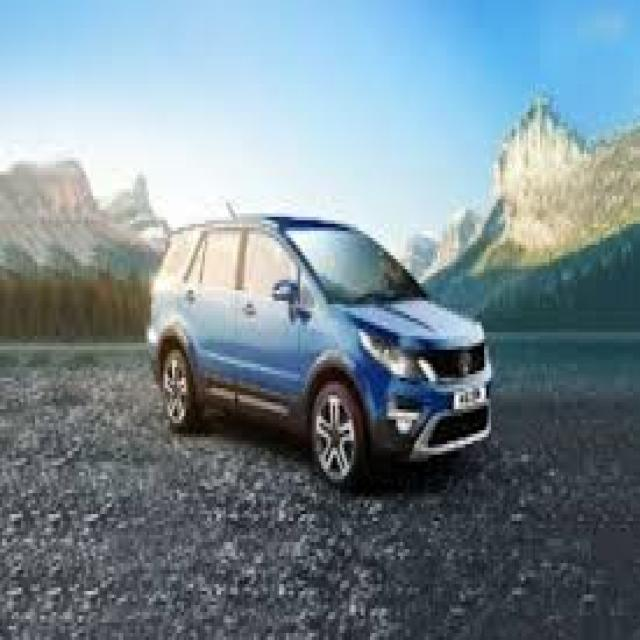SUV: (151, 212, 503, 489)
